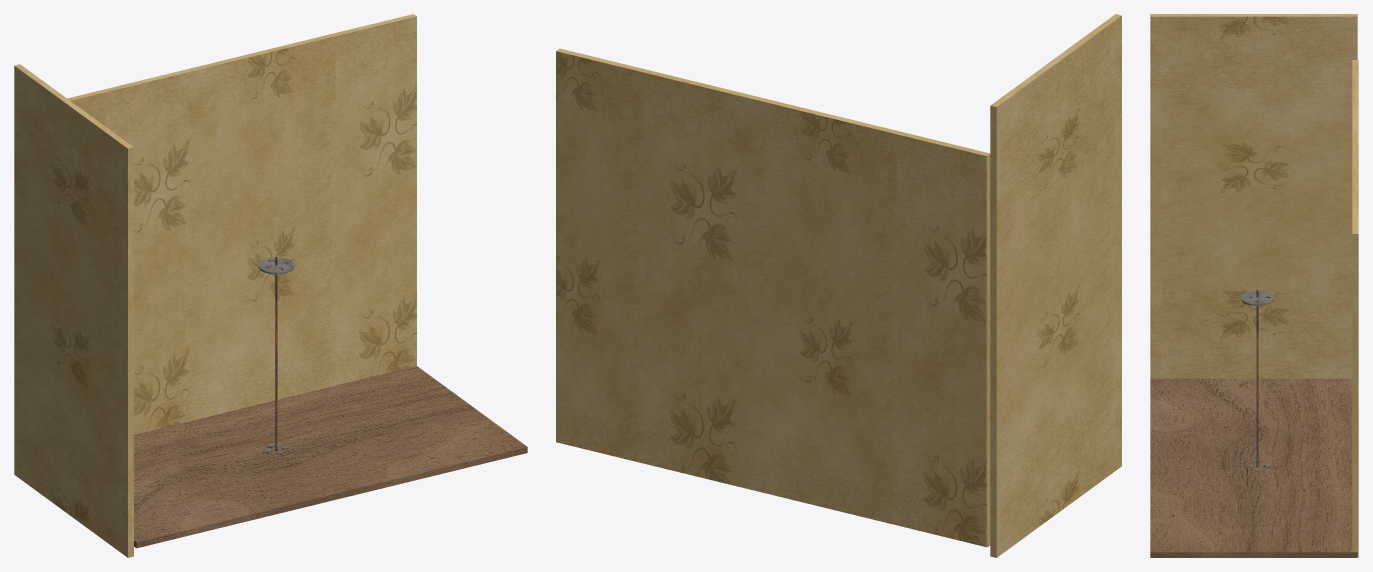
The model's file is FitPuzzle.FBX.
The picture shows the model from 3 angles, left to right: view 1: azimuth 30°, elevation 25°; view 2: azimuth 150°, elevation 25°; view 3: azimuth 270°, elevation 25°; orthographic projection. The views are drawn at different scales.
Parts seen in each view (by area): view 1: BackWall, LeftWall, Floor; view 2: BackWall, LeftWall; view 3: LeftWall, Floor, BackWall, Pole, Circle.
Part boxes in pixels (x1,y1,x2,y2): BackWall: (67, 14, 416, 434); LeftWall: (14, 64, 133, 557); Floor: (134, 366, 527, 548); BackWall: (556, 48, 990, 547); LeftWall: (990, 14, 1121, 557); LeftWall: (1150, 14, 1357, 378); Floor: (1150, 378, 1357, 557); BackWall: (1352, 60, 1358, 557); Pole: (1256, 290, 1258, 467); Circle: (1241, 290, 1273, 305).
Bounding box in the file's own units: 2517 × 2463 × 1245.
4 materials, 4 textured.
